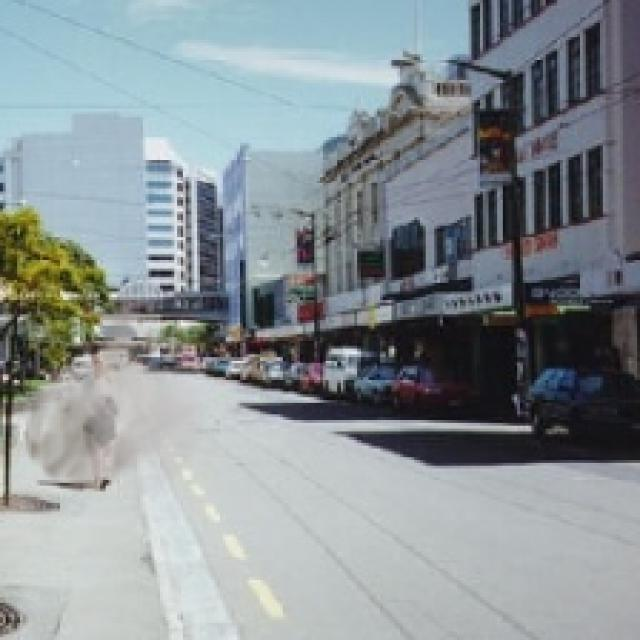Smoke: (6, 288, 214, 512)
